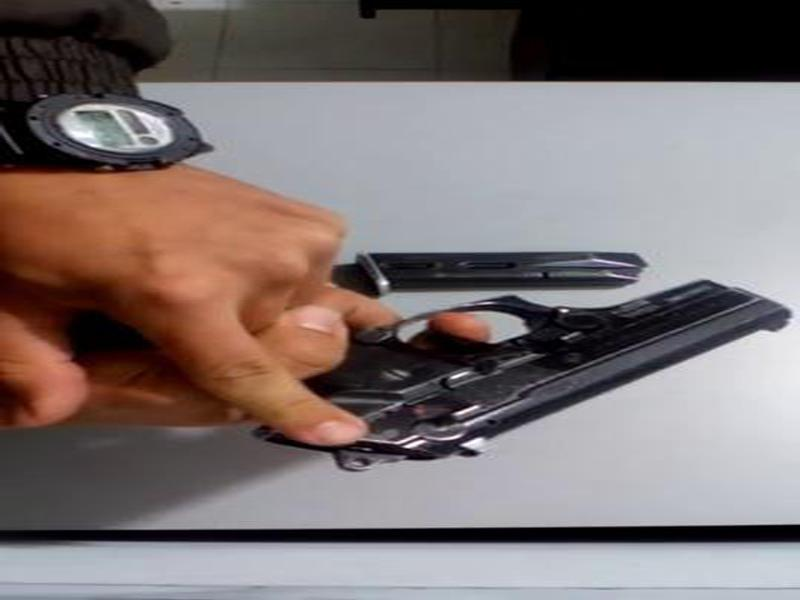Pistola: (241, 264, 795, 484)
